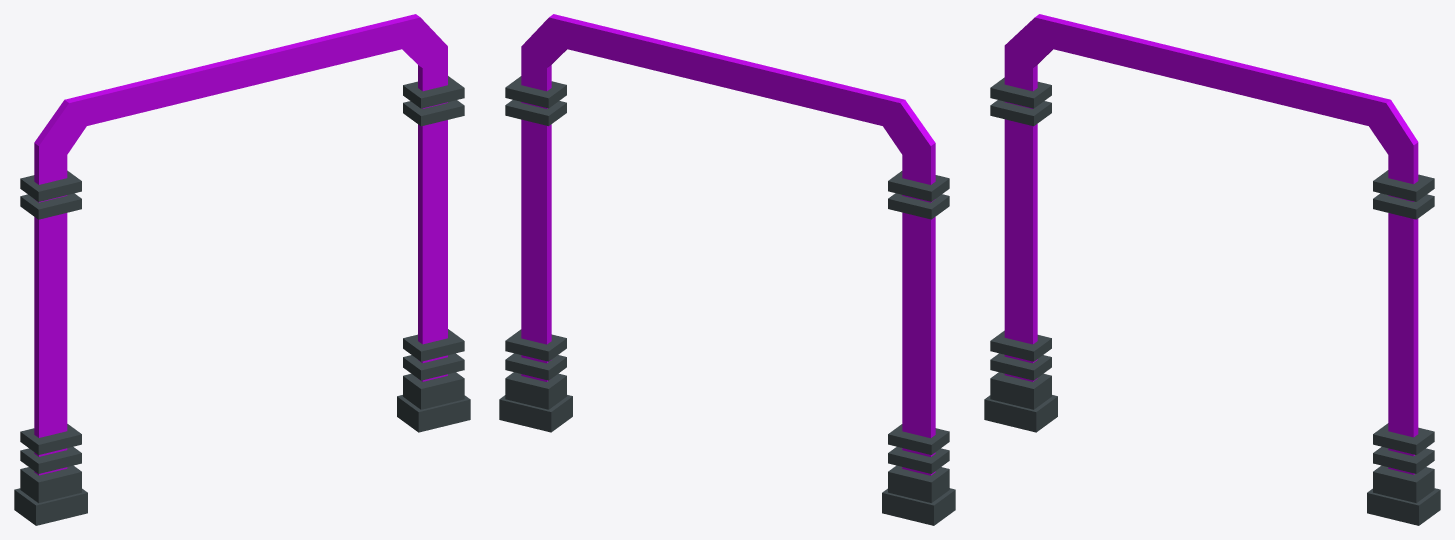
The model's file is Arc 01 Purple.FBX.
3 views of the same model, side by side, from view 1: azimuth 30°, elevation 25°; view 2: azimuth 150°, elevation 25°; view 3: azimuth 330°, elevation 25° (orthographic).
Parts seen in each view (by area): view 1: Arc 01 Purple; view 2: Arc 01 Purple; view 3: Arc 01 Purple.
Part boxes in pixels (x1,y1,x2,y2): Arc 01 Purple: (14, 14, 470, 525); Arc 01 Purple: (499, 14, 955, 525); Arc 01 Purple: (984, 14, 1440, 525).
Bounding box in the file's own units: 290 × 260 × 25.22.
